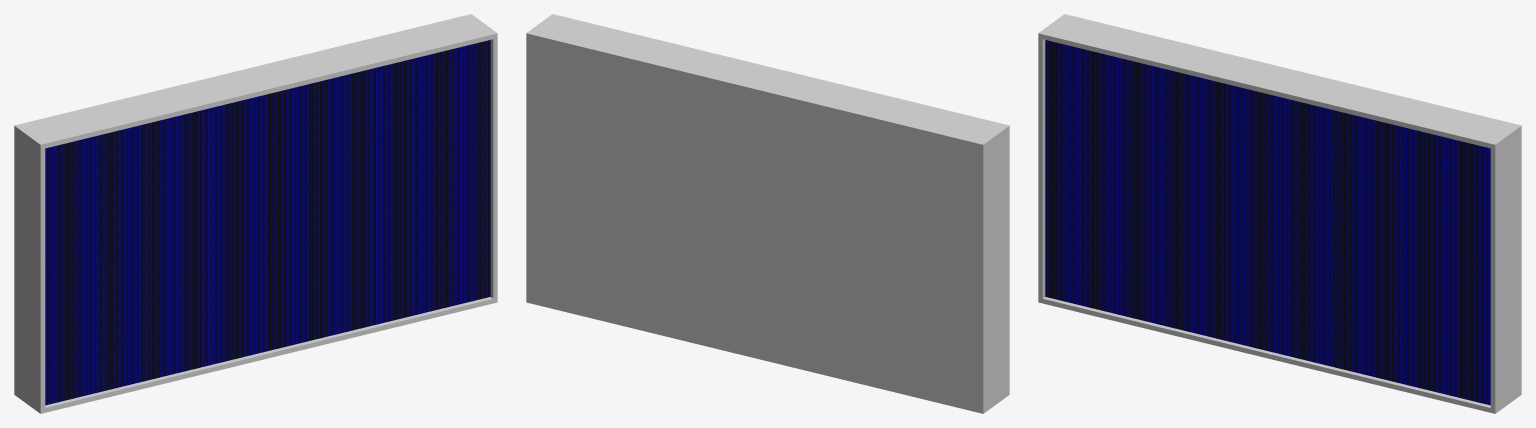
File: screen.gltf
3 renders of one model, left to right at view 1: azimuth 30°, elevation 25°; view 2: azimuth 150°, elevation 25°; view 3: azimuth 330°, elevation 25°, orthographic.
Visible parts, largest first — view 1: screen; view 2: screen; view 3: screen.
Boxes of the visible parts, x1,y1,x2,y2 form: screen: [14, 14, 497, 413]; screen: [526, 14, 1009, 413]; screen: [1038, 14, 1521, 413].
Bounding box in the file's own units: 1 × 0.5625 × 0.1.
Materials: 2 (1 with a texture image).
